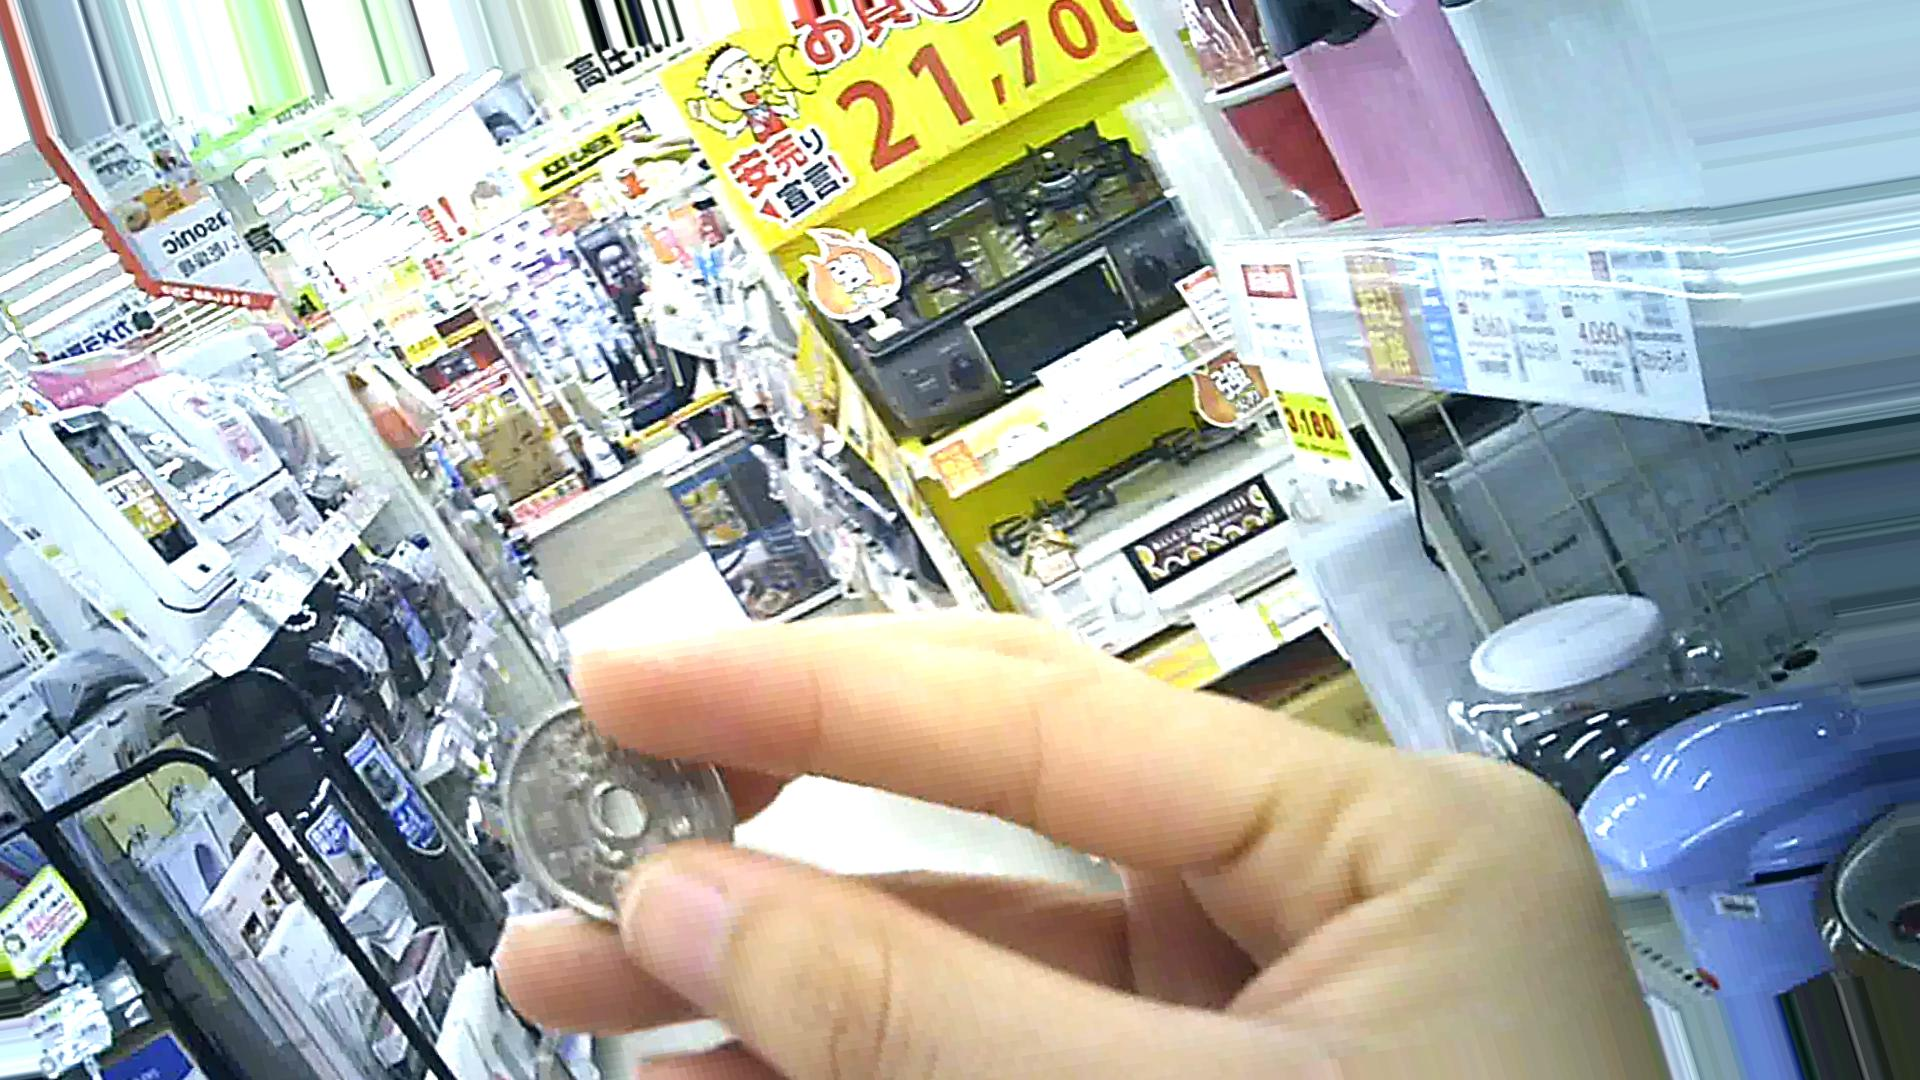50 Yen: (495, 694, 737, 906)
